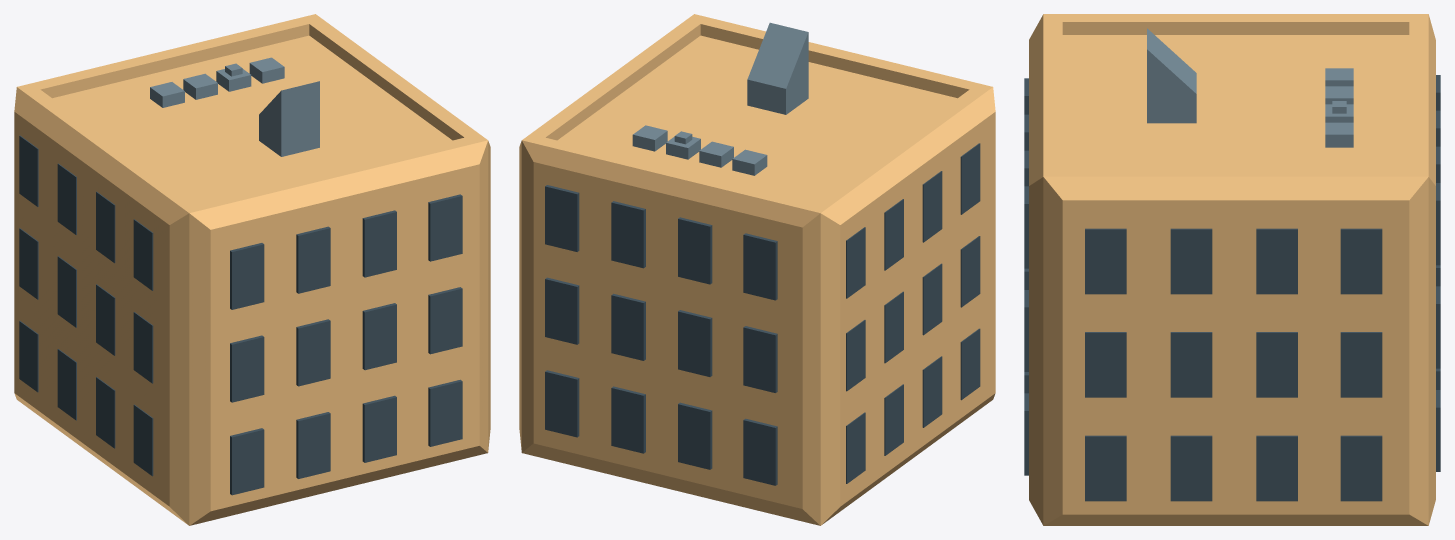
Rendered from scene_61NGbxVf4Q.glb.
The picture shows the model from 3 angles, left to right: view 1: azimuth 30°, elevation 25°; view 2: azimuth 150°, elevation 25°; view 3: azimuth 270°, elevation 25°; orthographic projection. The views are drawn at different scales.
Parts seen in each view (by area): view 1: Node; view 2: Node; view 3: Node.
Part boxes in pixels (bbox=[...]): Node: bbox=[14, 14, 490, 525]; Node: bbox=[519, 14, 995, 525]; Node: bbox=[1024, 14, 1440, 525].
Bounding box in the file's own units: 0.585 × 0.635 × 0.5833.
